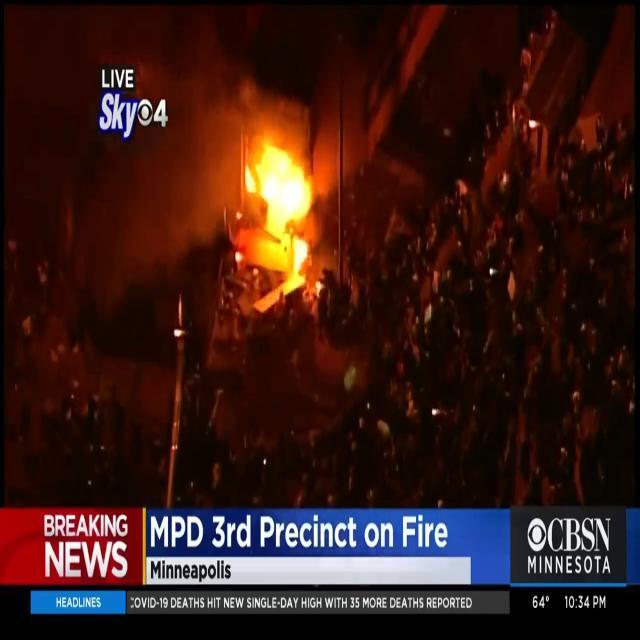Fire: (234, 134, 330, 302)
